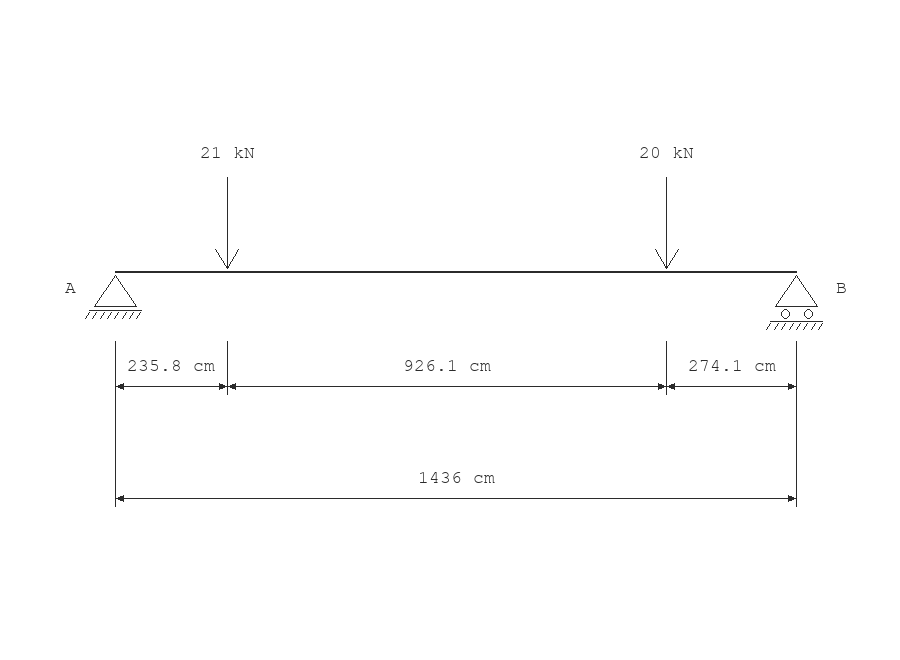pin_support: (85, 275, 142, 319)
point_load: (215, 177, 239, 269), (655, 177, 679, 269)
roller_support: (766, 275, 823, 330)
